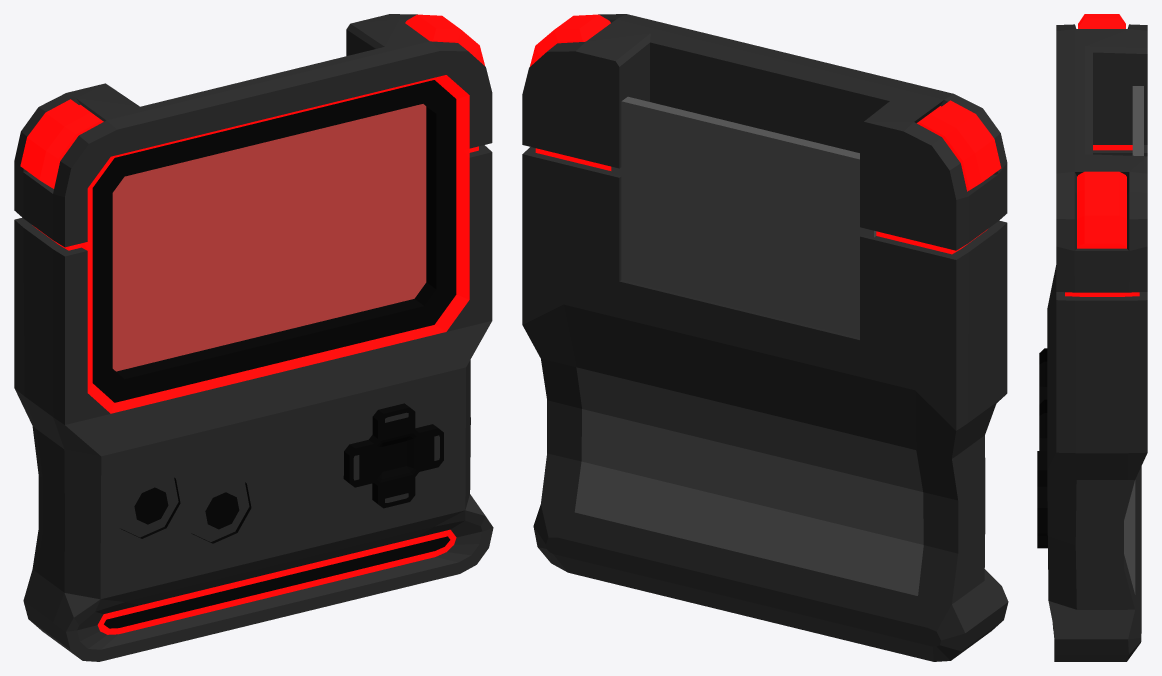
The model's file is Gameboy Red.fbx.
3 views of the same model, side by side, from view 1: azimuth 30°, elevation 25°; view 2: azimuth 150°, elevation 25°; view 3: azimuth 270°, elevation 25° (orthographic). The views are drawn at different scales.
Parts seen in each view (by area): view 1: Gameboy; view 2: Gameboy; view 3: Gameboy.
Part boxes in pixels (x1=…): Gameboy: x1=14, y1=14, x2=493, y2=661; Gameboy: x1=522, y1=14, x2=1008, y2=661; Gameboy: x1=1037, y1=14, x2=1147, y2=661.
Bounding box in the file's own units: 252 × 59.54 × 289.
